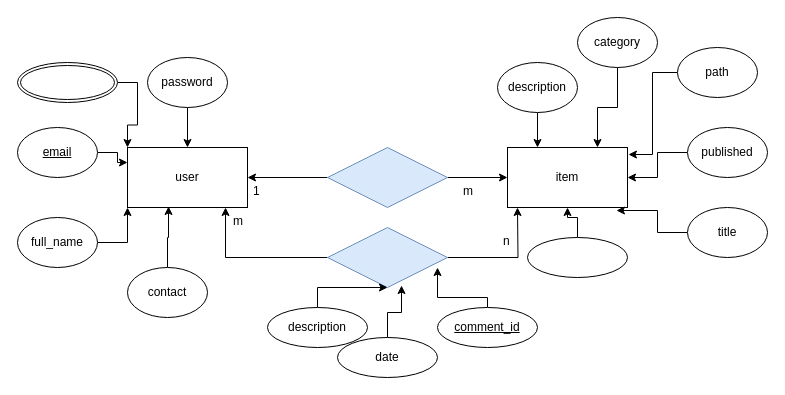
Image size: 785x395. Some labels were removed from this diagram. Each missing label, with the box of its shape:
comment: (326, 226, 448, 288)
interst: (16, 62, 118, 102)
itemID: (526, 236, 628, 278)
post: (326, 146, 448, 208)
